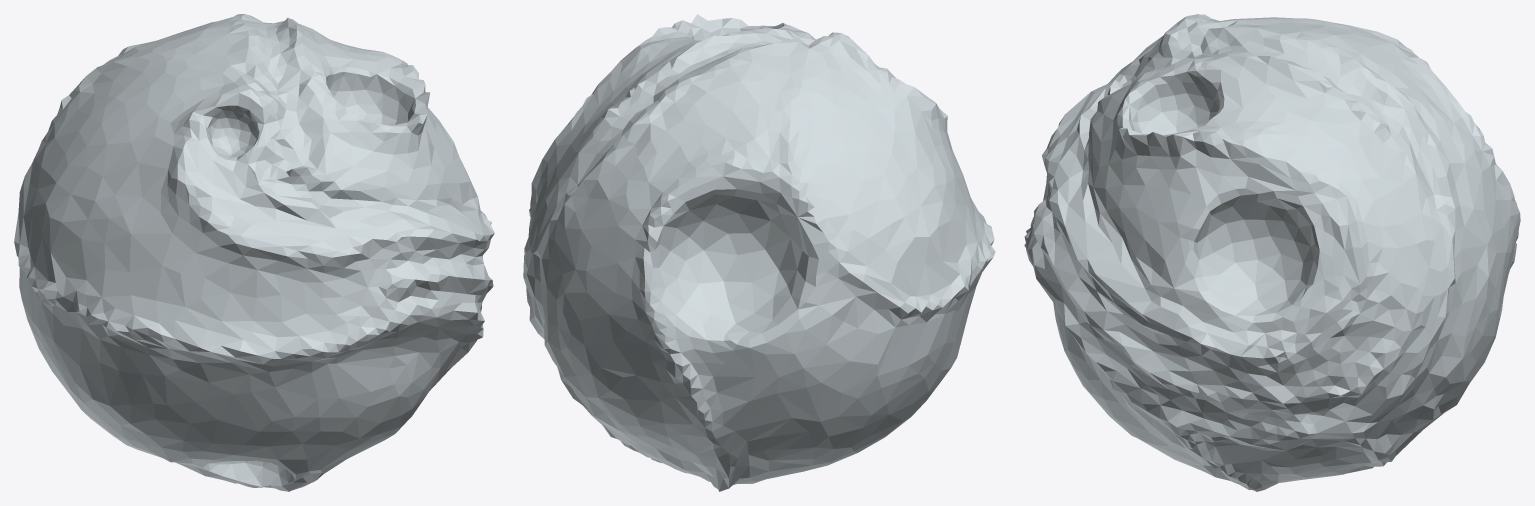
Rendered from Planet_3.glb.
3 views of the same model, side by side, from view 1: azimuth 30°, elevation 25°; view 2: azimuth 150°, elevation 25°; view 3: azimuth 270°, elevation 25° (orthographic). The views are drawn at different scales.
Parts seen in each view (by area): view 1: Planet_3; view 2: Planet_3; view 3: Planet_3.
Part boxes in pixels (x1,y1,x2,y2): Planet_3: (14,14,494,491); Planet_3: (523,14,995,491); Planet_3: (1024,14,1520,491).
Size of the model in its own units: 20.83 by 20.32 by 20.98.
Materials: 1 (1 with a texture image).
